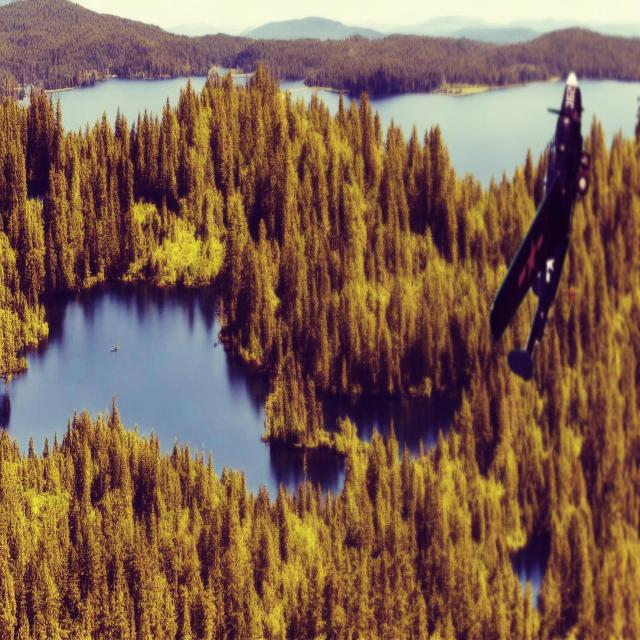airplane: (489, 71, 591, 381)
